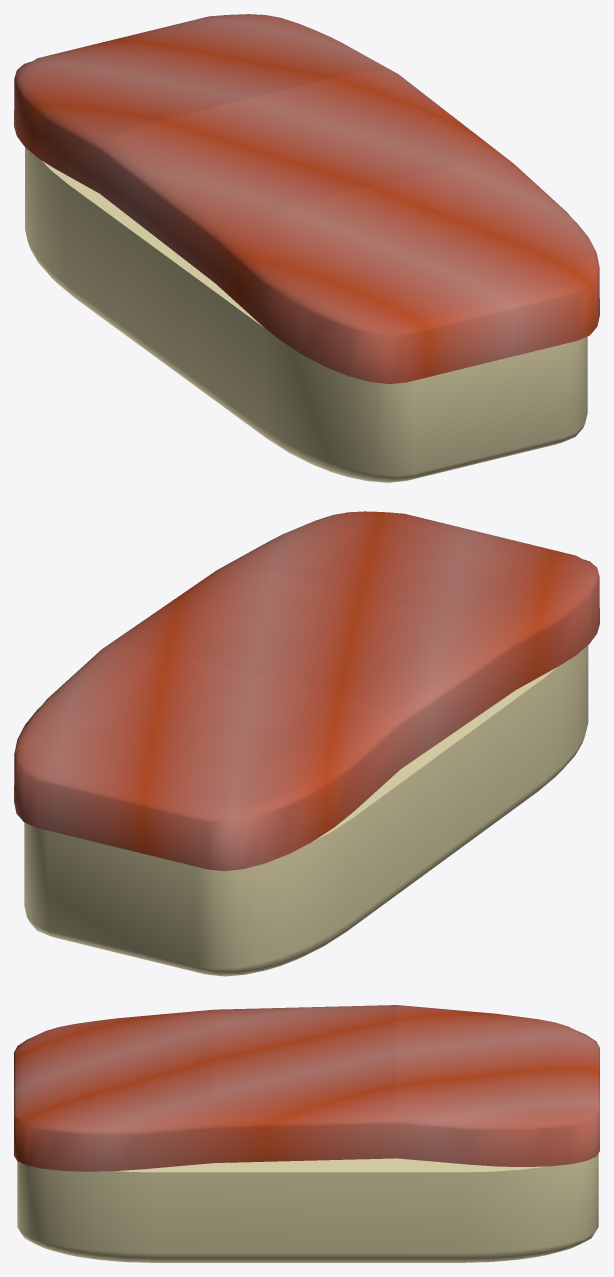
Rendered from SushiOne.fbx.
3 renders of one model, top to bottom at view 1: azimuth 30°, elevation 25°; view 2: azimuth 150°, elevation 25°; view 3: azimuth 270°, elevation 25°, orthographic. The views are drawn at different scales.
Visible parts, largest first — view 1: Cube.005, Cube.001; view 2: Cube.005, Cube.001; view 3: Cube.005, Cube.001.
Boxes of the visible parts, x1=… form: Cube.005: x1=14, y1=14, x2=599, y2=383; Cube.001: x1=25, y1=147, x2=587, y2=482; Cube.005: x1=14, y1=511, x2=599, y2=871; Cube.001: x1=24, y1=645, x2=588, y2=976; Cube.005: x1=14, y1=1005, x2=599, y2=1171; Cube.001: x1=17, y1=1153, x2=598, y2=1262.
Bounding box in the file's own units: 170 × 115 × 361.
